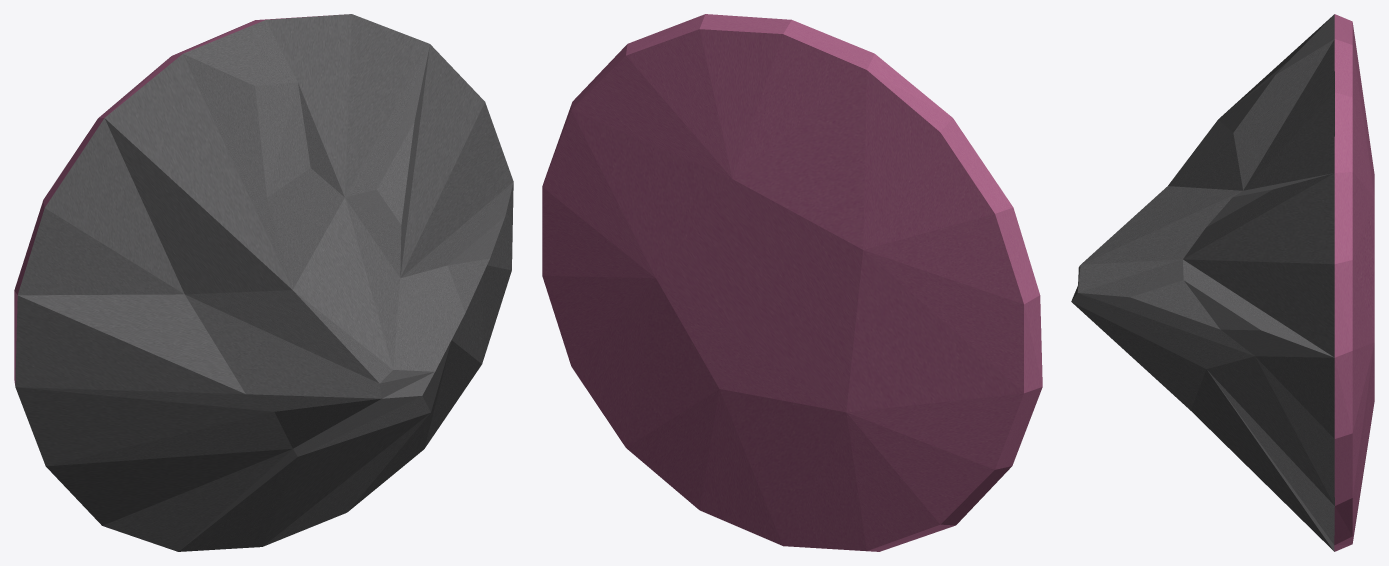
Rendered from pink_land_4.FBX.
The picture shows the model from 3 angles, left to right: view 1: azimuth 30°, elevation 25°; view 2: azimuth 150°, elevation 25°; view 3: azimuth 270°, elevation 25°; orthographic projection. The views are drawn at different scales.
Visible parts, largest first — view 1: Cylinder.007; view 2: Cylinder.007; view 3: Cylinder.007.
Boxes of the visible parts, x1=… form: Cylinder.007: x1=14, y1=14, x2=513, y2=551; Cylinder.007: x1=542, y1=14, x2=1042, y2=551; Cylinder.007: x1=1071, y1=14, x2=1374, y2=551.
Size of the model in its own units: 2045 by 2063 by 1161.
